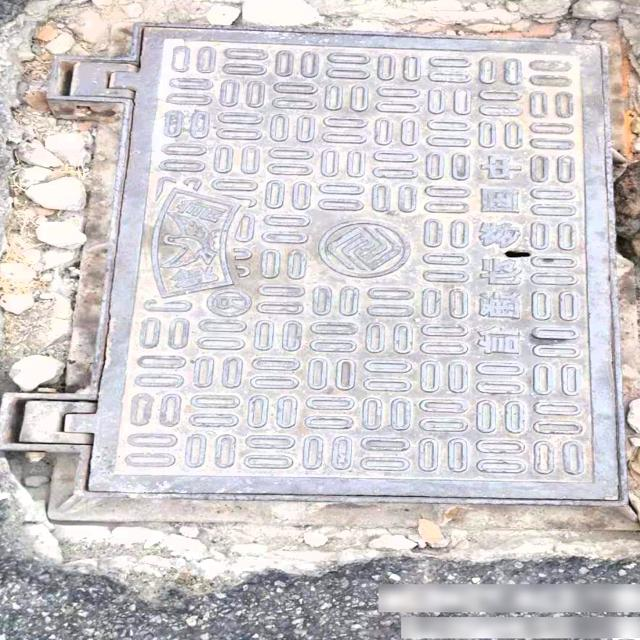circle: (0, 0, 640, 562)
